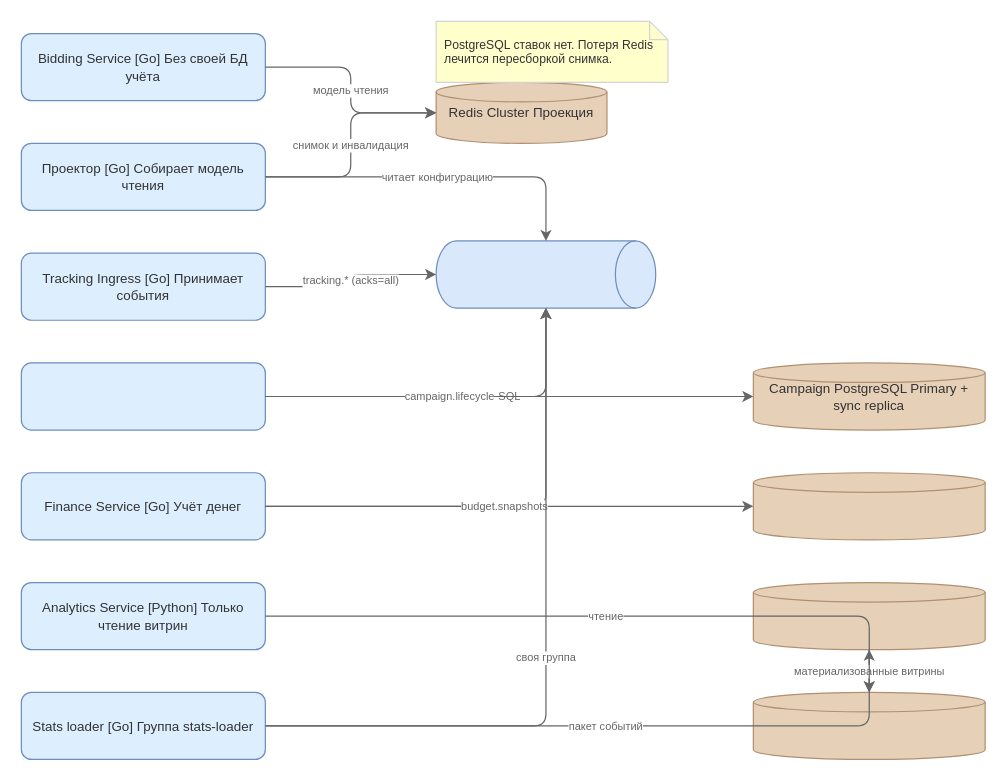
Image size: 1007x781. Some labels were removed from this diagram. The centre of each missing label's shape, as x and y in pixels:
Campaign Service [Go] Учёт рекламы: the point at 142,396
ClickHouse marts Витрины: the point at 868,725
ClickHouse raw Шарды по event_id: the point at 868,615
Finance PostgreSQL Primary + sync replica: the point at 868,506
Kafka События и конфигурация: the point at 545,274
